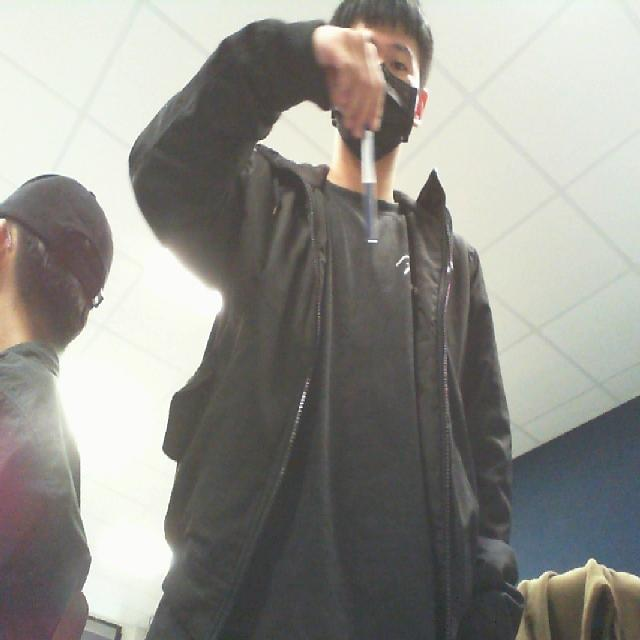Pen: (344, 127, 399, 260)
